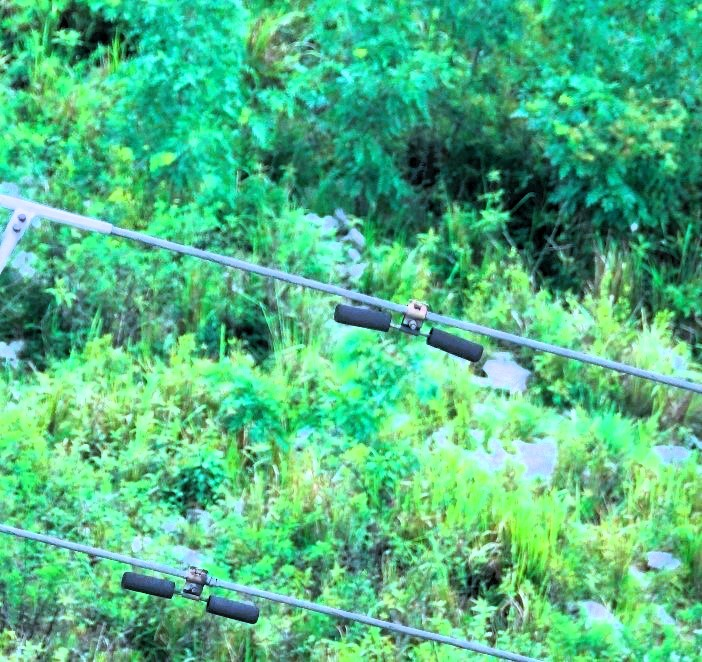Shockproof hammer: (330, 284, 487, 365), (119, 554, 268, 633)
